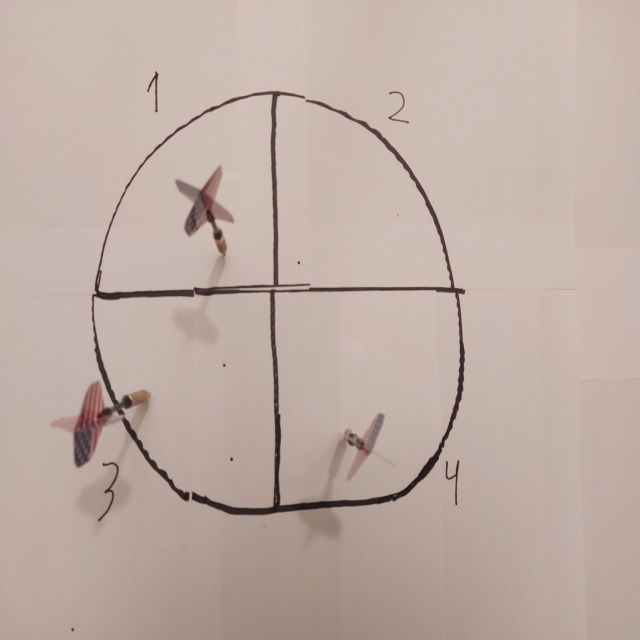Dart: (45, 375, 157, 469), (165, 160, 243, 260), (328, 411, 407, 485)
